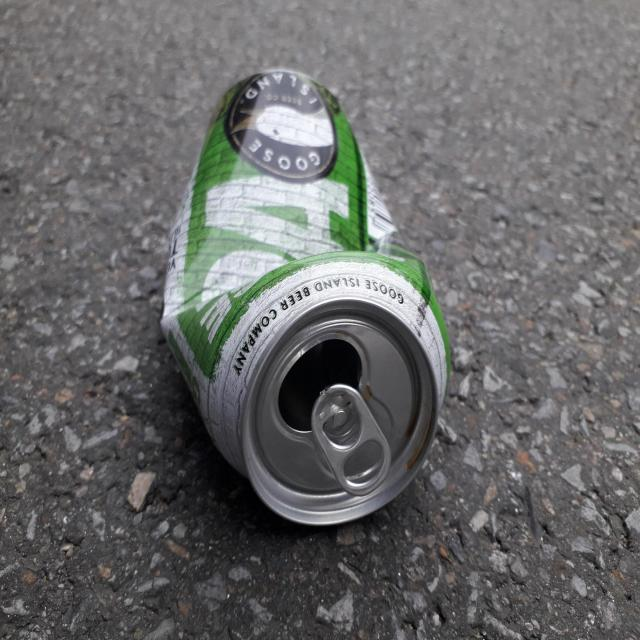can: (161, 69, 450, 526)
